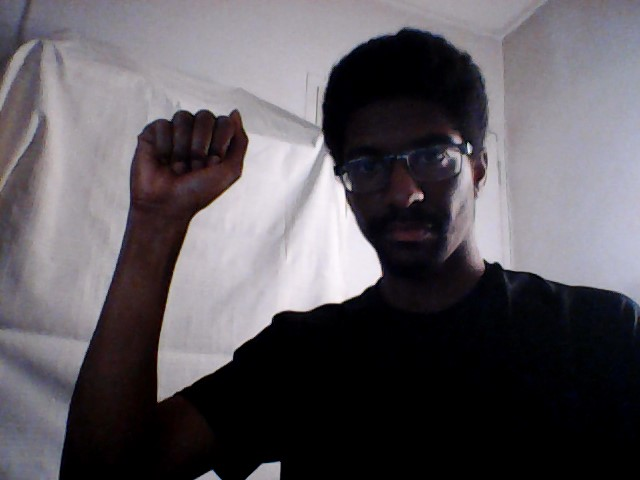a: (129, 106, 252, 212)
